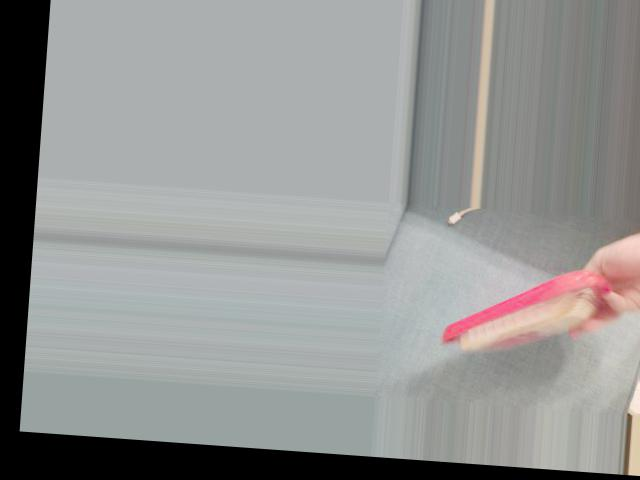cheese: (439, 252, 613, 367)
